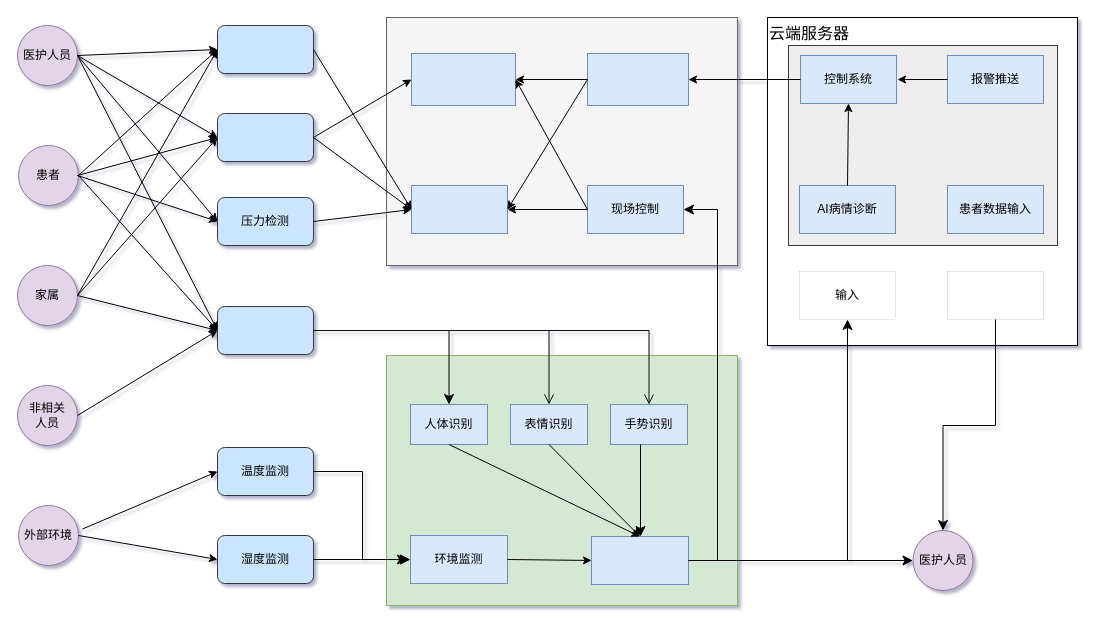
Some shapes in this 1101 by 629 pixel diagram are drawn without their labels. The shapes that lost their labels are listed below. From the top down, each one's box as (x1, y1, x2, y2) in pixels, then its label:
(216, 24, 314, 74): 语音控制
(410, 52, 516, 106): 姿态控制
(586, 52, 688, 106): 远程控制
(216, 112, 314, 162): 按键控制
(386, 16, 738, 266): 鼾症机器人
(410, 184, 508, 234): 模式切换
(947, 271, 1043, 319): 输出
(216, 306, 314, 354): 视觉感知
(386, 354, 738, 606): 边缘端监测系统
(590, 536, 688, 584): 数据上传输出
